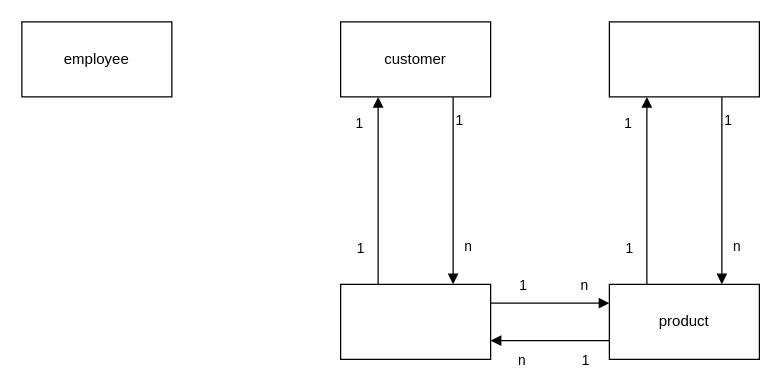
Some shapes in this 781 by 390 pixel diagram are drawn without their labels. Here are the shapes that lost their labels. From the top down, the centre of each, then its label:
the point at 683,59: manufacturer
the point at 415,321: bill
